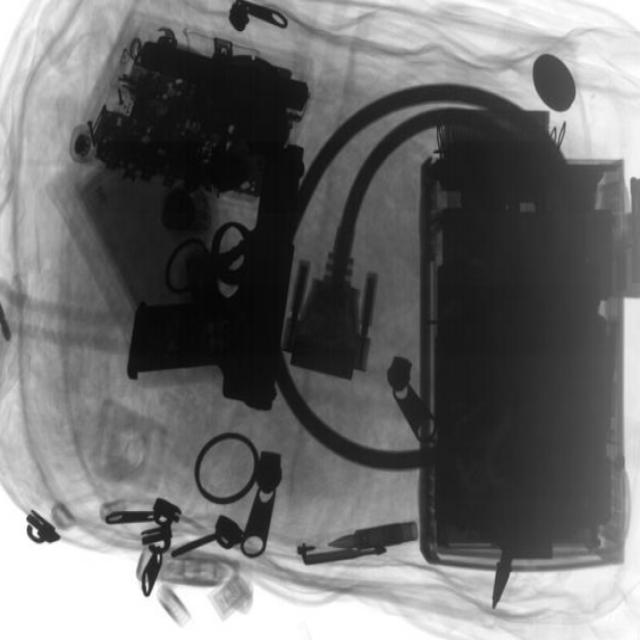GUN: (119, 152, 304, 408)
